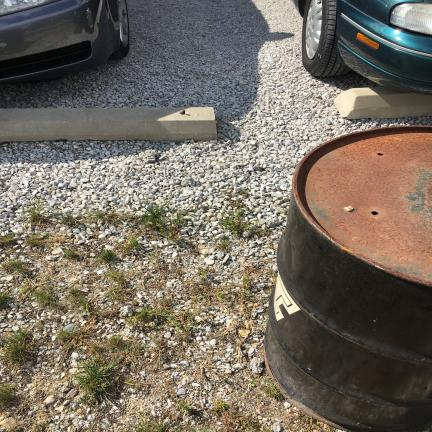karat: (297, 127, 431, 284)
